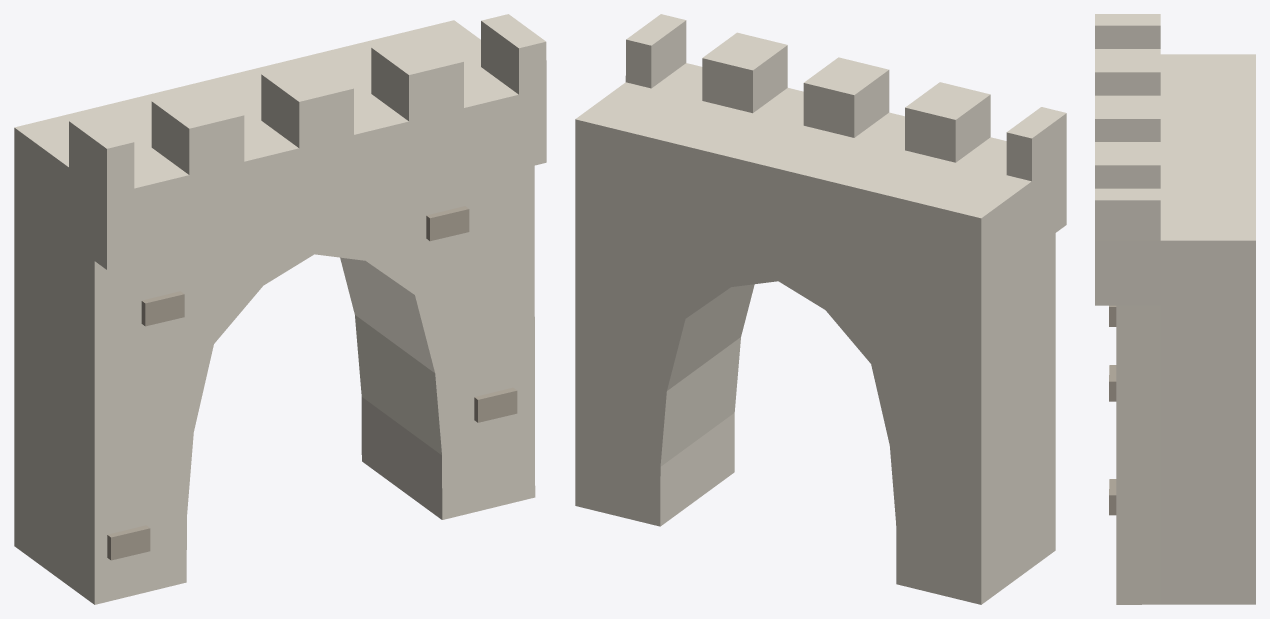
Rendered from wallentrancebricks.glb.
3 renders of one model, left to right at view 1: azimuth 30°, elevation 25°; view 2: azimuth 150°, elevation 25°; view 3: azimuth 270°, elevation 25°, orthographic. The views are drawn at different scales.
Visible parts, largest first — view 1: WallEntranceBricks; view 2: WallEntranceBricks; view 3: WallEntranceBricks.
Boxes of the visible parts, x1,y1,x2,y2 form: WallEntranceBricks: [14, 14, 546, 604]; WallEntranceBricks: [575, 14, 1066, 604]; WallEntranceBricks: [1095, 14, 1255, 604].
Size of the model in its own units: 1.54 by 1.55 by 0.5592.
